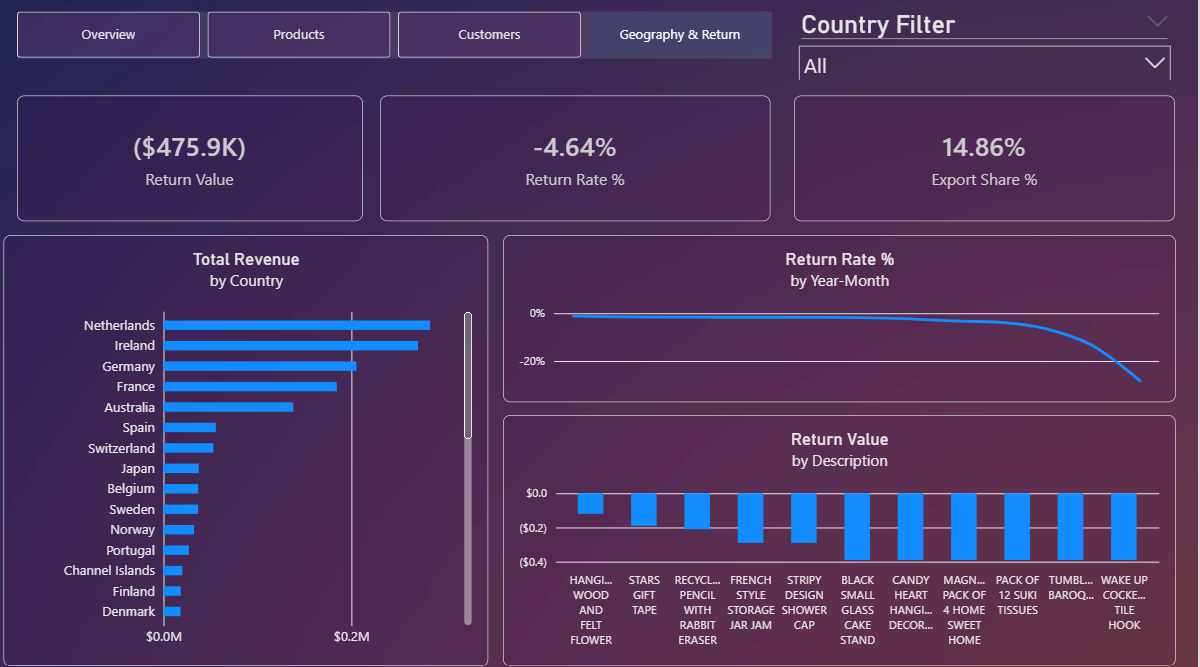

What the dashboard file says about the page in this screenshot:
{"tool":"powerbi","page":{"name":"Geography & Return","canvas":[1920,1080],"ordinal":3},"visuals":[{"type":"cardVisual","fields":{"Data":["Data.Return Rate %"]},"box":[664.3,179.4,594.2,171],"z":1},{"type":"cardVisual","fields":{"Data":["Data.Export Share %"]},"box":[1314.6,179.4,557.8,171],"z":2},{"type":"map","fields":{"Category":["Dim_Country.Country"],"Size":["Data.Total Revenue"]},"box":[30.8,384,515.7,616.6],"z":3},{"type":"cardVisual","fields":{"Data":["Data.Return Value"]},"box":[30.8,179.4,577.4,173.8],"z":4},{"type":"clusteredBarChart","fields":{"Category":["Dim_Country.Country"],"Y":["Data.Total Revenue"]},"box":[563.4,384,566.2,616.6],"z":5},{"type":"clusteredColumnChart","fields":{"Category":["Dim_Product.Description"],"Y":["Data.Return Value"]},"box":[1163.2,667.1,709.1,333.5],"z":6},{"type":"lineChart","fields":{"Category":["Dim_Date.Year-Month"],"Y":["Data.Return Rate %"]},"box":[1163.2,384,709.1,255.1],"z":7},{"type":"slicer","fields":{"Values":["Dim_Country.Country"]},"box":[1314.6,47.6,557.8,131.7],"z":9},{"type":"pageNavigator","box":[58.9,72.9,1182.8,84.1],"z":10}]}

Visuals, with their boxes in screenshot pixels (x1, y1, x2, y2), scaled from the page's 1920x1080 canvas onto the 1200x667 screenshot:
cardVisual - Data.Return Rate %: (415, 111, 787, 216)
cardVisual - Data.Export Share %: (822, 111, 1170, 216)
map - Dim_Country.Country x Data.Total Revenue: (19, 237, 342, 618)
cardVisual - Data.Return Value: (19, 111, 380, 218)
clusteredBarChart - Dim_Country.Country x Data.Total Revenue: (352, 237, 706, 618)
clusteredColumnChart - Dim_Product.Description x Data.Return Value: (727, 412, 1170, 618)
lineChart - Dim_Date.Year-Month x Data.Return Rate %: (727, 237, 1170, 395)
slicer - Dim_Country.Country: (822, 29, 1170, 111)
pageNavigator: (37, 45, 776, 97)
